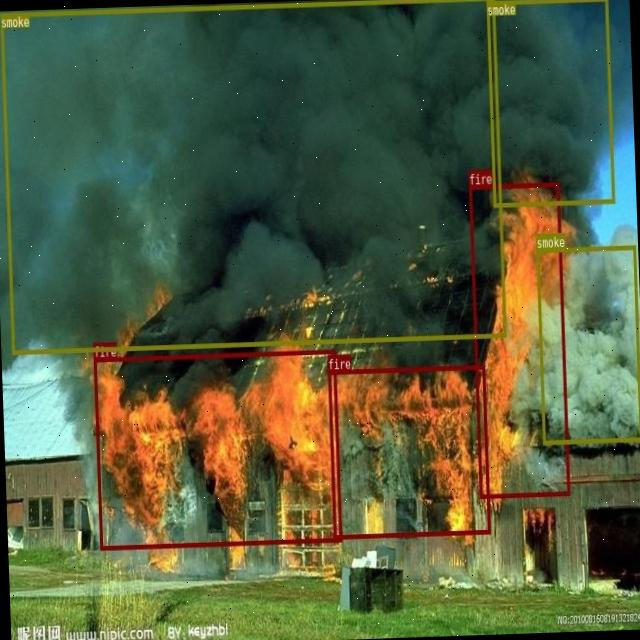fire: (93, 350, 342, 550), (468, 182, 570, 498), (328, 364, 490, 538)
smoke: (0, 0, 506, 353), (485, 0, 614, 206), (535, 244, 640, 443)
